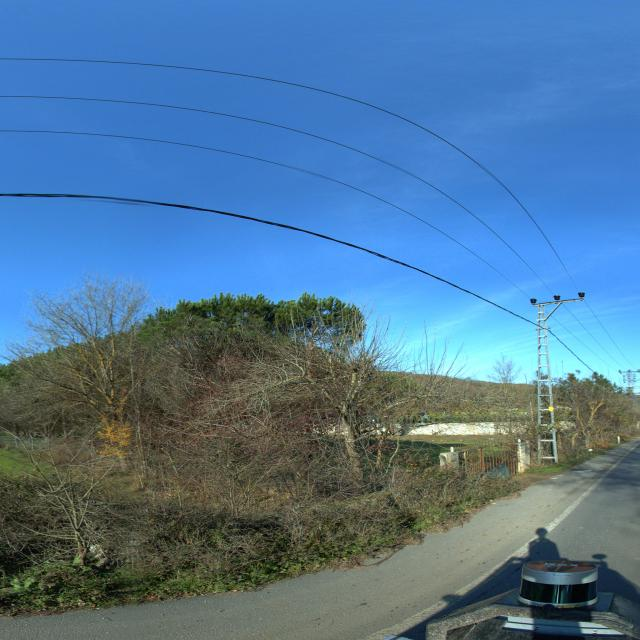Utility Pole Information Plate: (549, 407, 554, 411)
